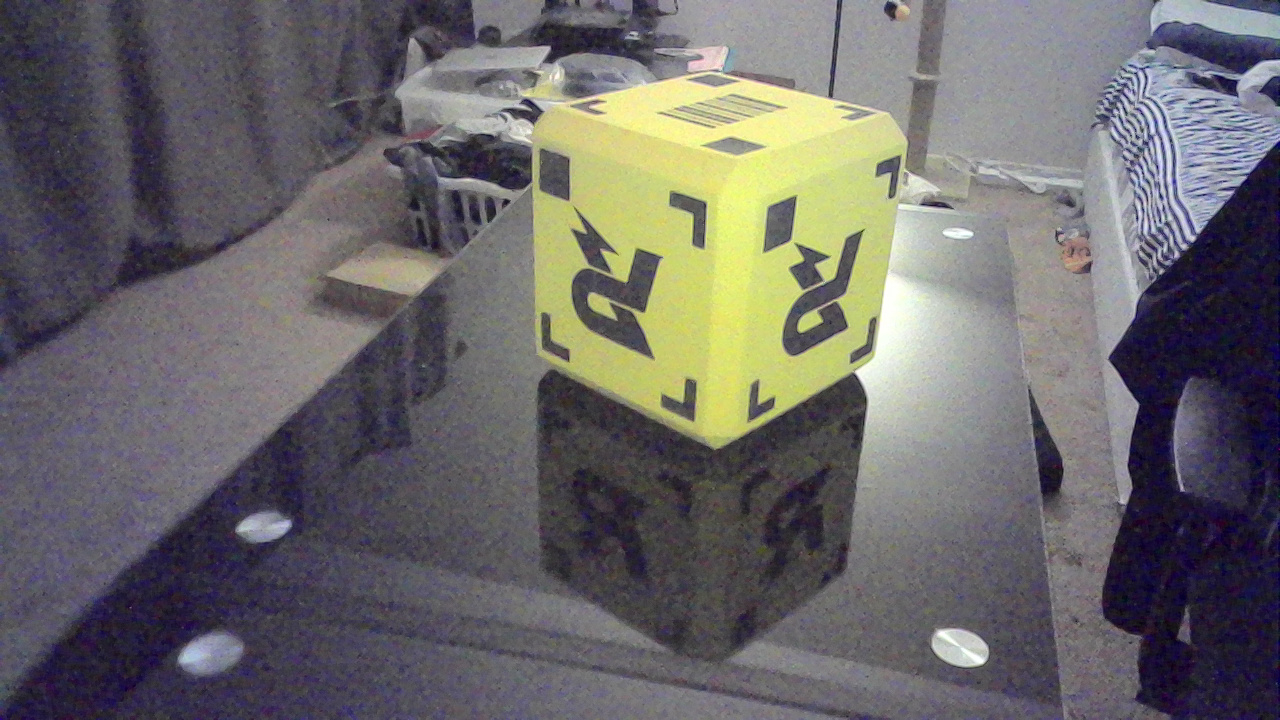Barcode: (654, 89, 804, 141)
R: (565, 207, 675, 369), (775, 240, 877, 362)
